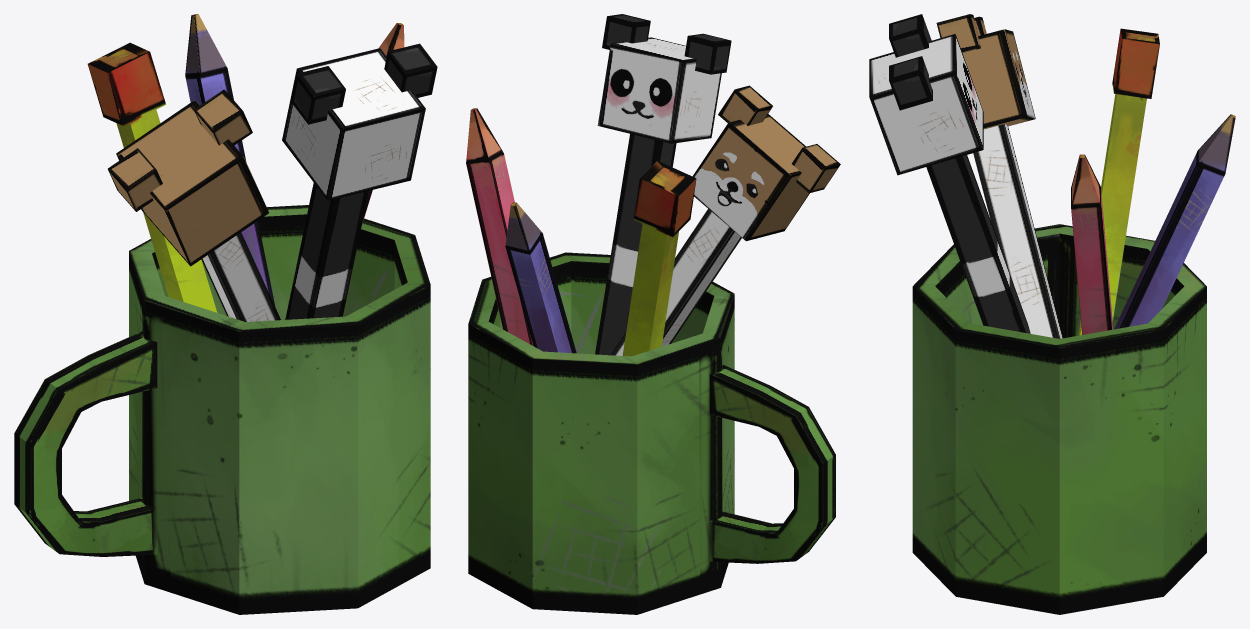
The model's file is Cup with pens.glb.
The picture shows the model from 3 angles, left to right: view 1: azimuth 30°, elevation 25°; view 2: azimuth 150°, elevation 25°; view 3: azimuth 270°, elevation 25°; orthographic projection. The views are drawn at different scales.
Parts seen in each view (by area): view 1: Cup, Panda pen, Shiba Inu Pen, Pencil.002, Pencil.001, Pencil; view 2: Cup, Panda pen, Shiba Inu Pen, Pencil.002, Pencil, Pencil.001; view 3: Cup, Panda pen, Shiba Inu Pen, Pencil.002, Pencil.001, Pencil.
Boxes of the visible parts, x1,y1,x2,y2 form: Cup: [14, 205, 430, 614]; Panda pen: [282, 43, 437, 319]; Shiba Inu Pen: [108, 89, 280, 321]; Pencil.002: [87, 42, 217, 312]; Pencil.001: [185, 14, 275, 306]; Pencil: [361, 23, 404, 225]; Cup: [468, 252, 835, 614]; Panda pen: [595, 14, 731, 355]; Shiba Inu Pen: [610, 85, 840, 355]; Pencil.002: [622, 160, 696, 356]; Pencil: [466, 108, 533, 345]; Pencil.001: [505, 202, 576, 353]; Cup: [912, 224, 1206, 614]; Panda pen: [869, 14, 1030, 333]; Shiba Inu Pen: [936, 14, 1062, 338]; Pencil.002: [1078, 28, 1159, 335]; Pencil.001: [1114, 114, 1235, 329]; Pencil: [1071, 154, 1113, 334].
Bounding box in the file's own units: 0.1694 × 0.2242 × 0.145.
1 material, 1 textured.
